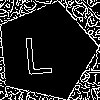L: (21, 26, 54, 75)
